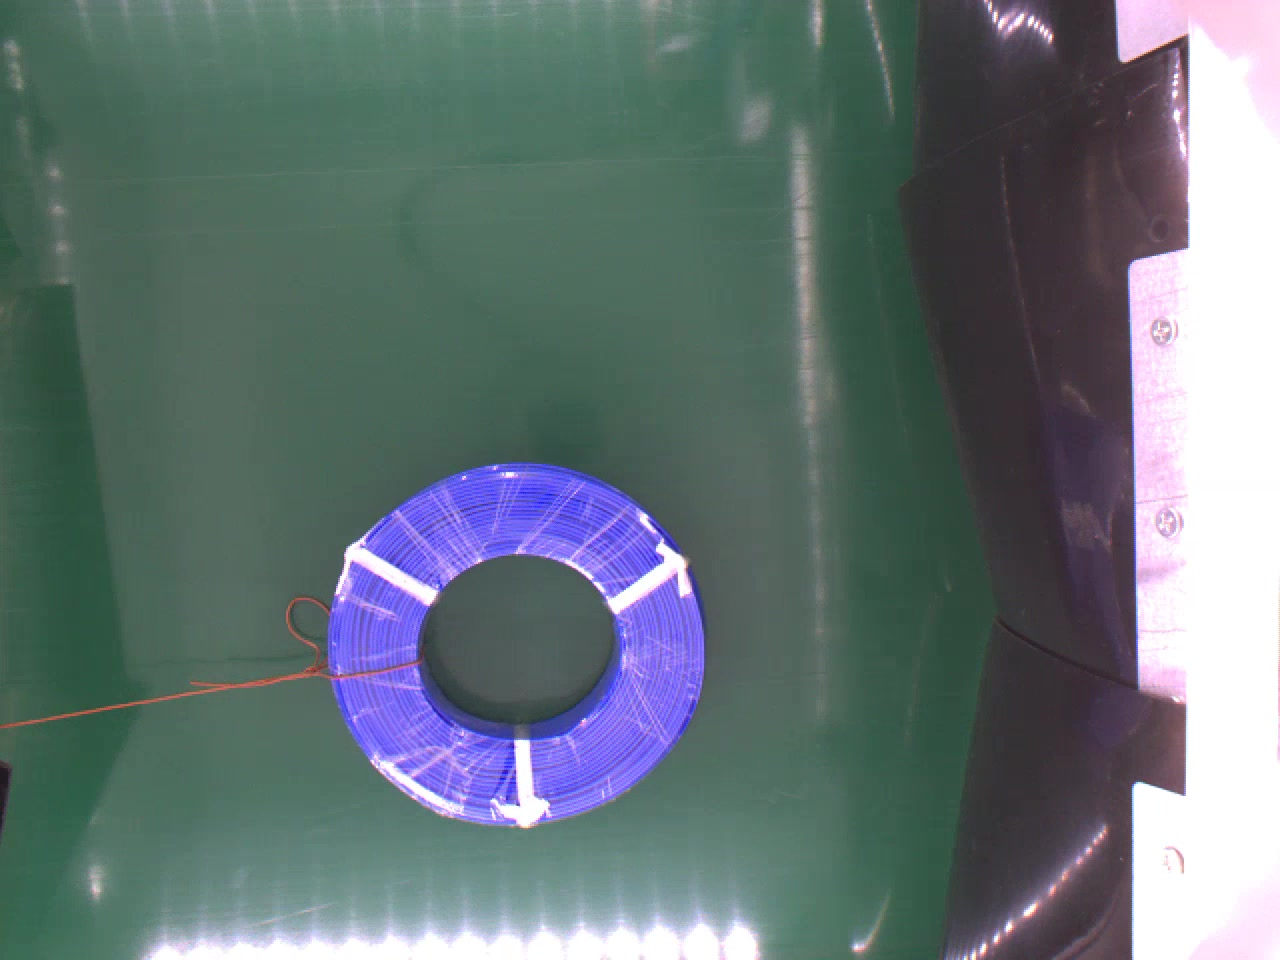blue: (328, 451, 707, 825)
